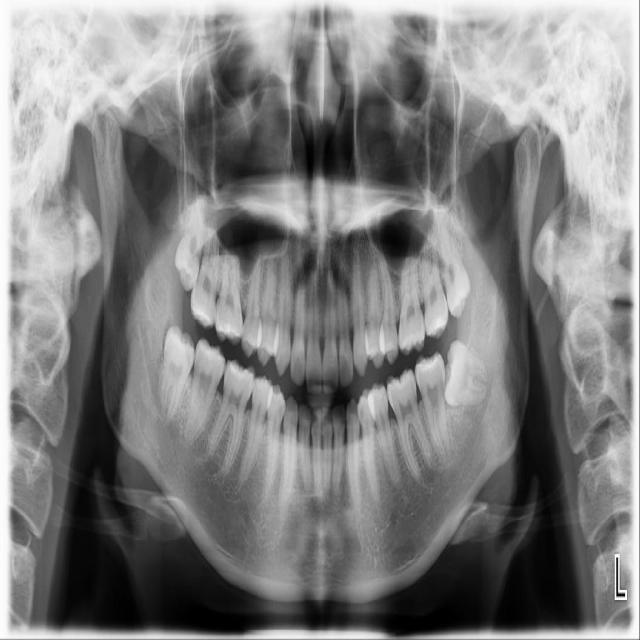impacted tooth: (443, 340, 492, 406), (161, 328, 194, 425), (176, 194, 206, 288)
